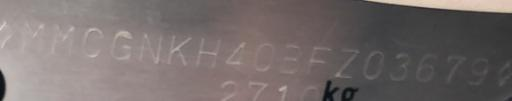letter: (194, 35, 222, 72), (138, 28, 164, 67), (166, 29, 190, 70), (304, 42, 332, 77), (333, 45, 361, 80), (20, 19, 46, 56), (50, 22, 76, 59), (80, 21, 104, 60), (222, 34, 246, 73), (278, 41, 304, 76), (109, 27, 133, 64), (362, 45, 386, 82), (251, 39, 275, 74), (388, 50, 412, 83), (415, 51, 439, 84), (444, 52, 468, 85), (466, 56, 490, 89)
